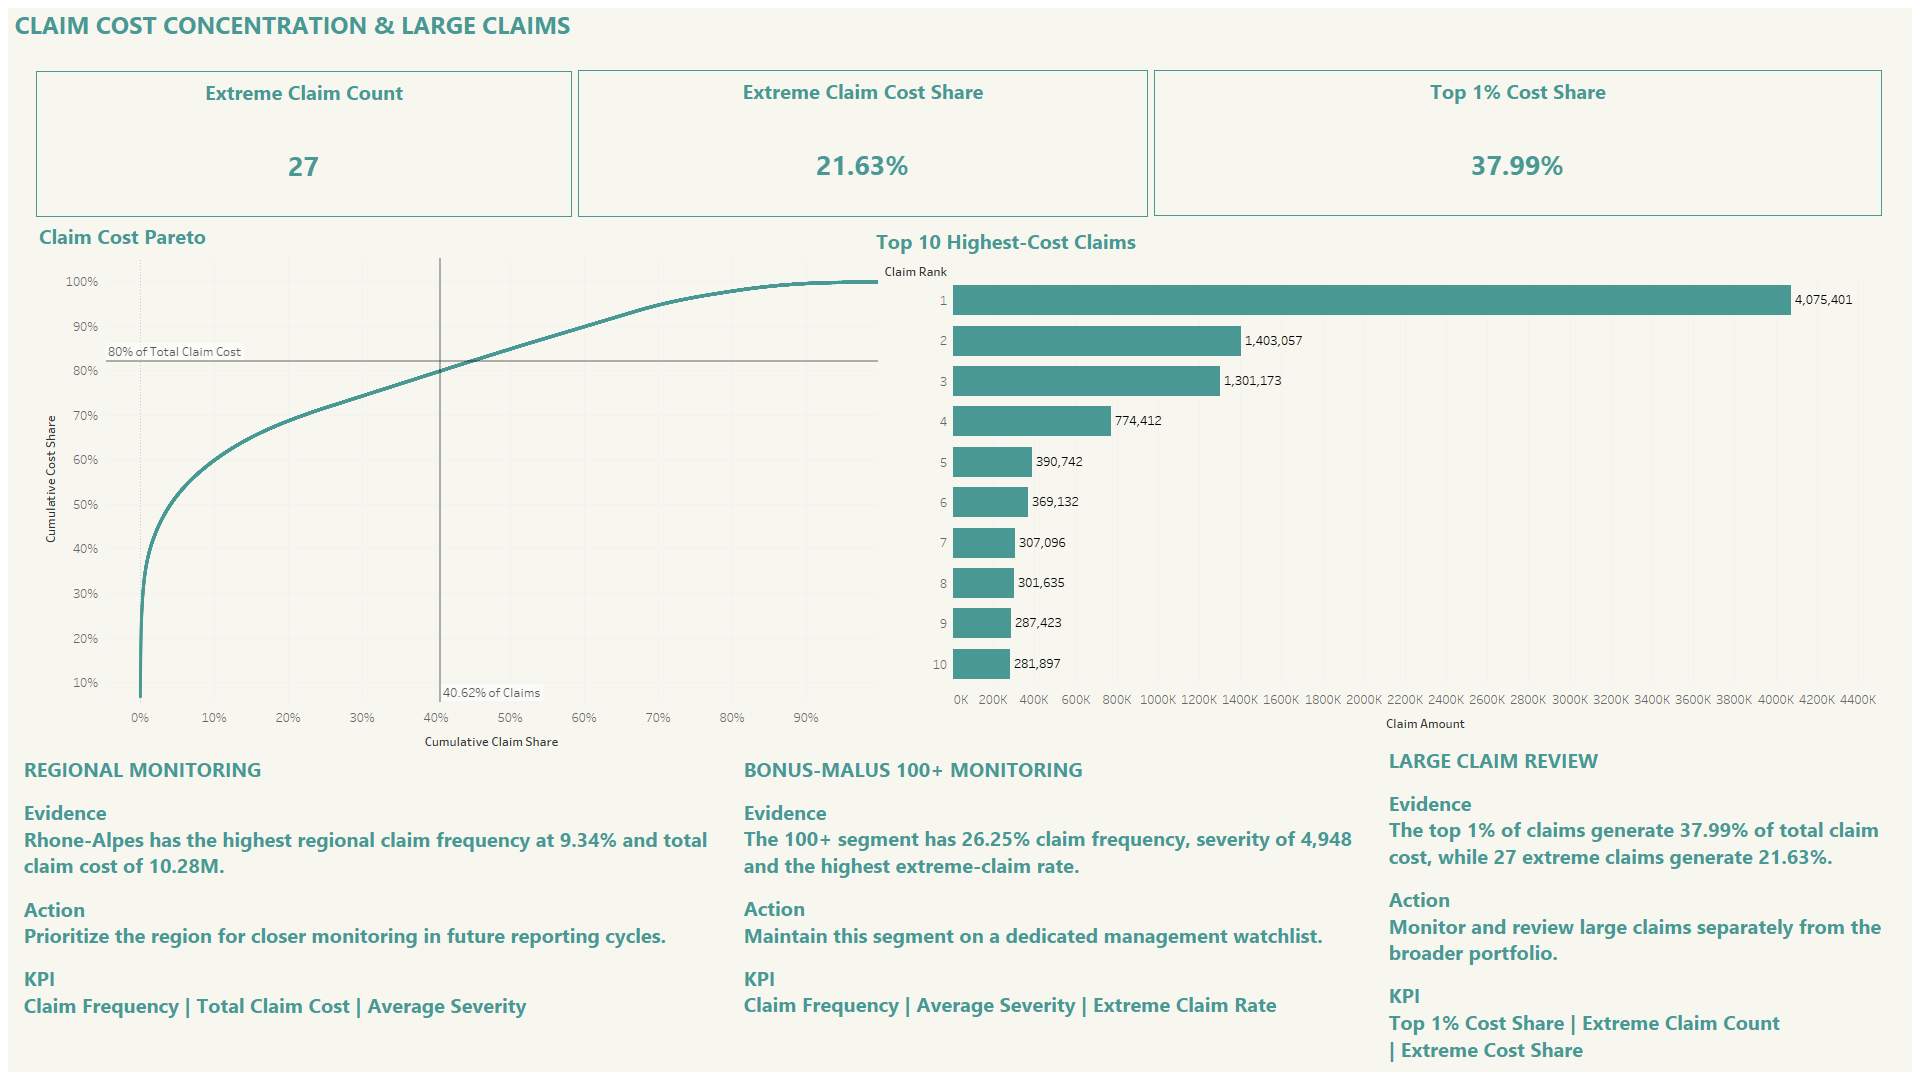

This screenshot's page, from the dashboard's own definition file:
{"tool":"tableau","page":{"name":"Claim Cost Concentration & Large Claims","canvas":[1920,1080],"ordinal":0},"visuals":[{"type":"title","box":[8,8,1904,32]},{"type":"worksheet","title":"Extreme Claim Cost Share","mark":"Automatic","box":[578,70,570,147]},{"type":"worksheet","title":"Top 1 Percent Cost Share","mark":"Automatic","box":[1154,70,728,146]},{"type":"worksheet","title":"Extreme Claim Count","mark":"Automatic","box":[36,71,536,146]},{"type":"worksheet","title":"Claim Cost Pareto","mark":"Line","rows":["cumulative_cost_share"],"cols":["cumulative_claim_share"],"box":[34.6,216,842.9,541.4]},{"type":"worksheet","title":"Top 10 Highest-Cost Claims","mark":"Bar","rows":["claim_rank"],"cols":["ClaimAmount"],"box":[871.7,221.4,1027.2,518.4]},{"type":"text","box":[21,734,699,310]},{"type":"text","box":[741,737,636,303]},{"type":"text","box":[1386,744,532,325]}]}

Visuals, with their boxes in screenshot pixels (x1, y1, x2, y2), scaled from the page's 1920x1080 canvas onto the 1920x1080 screenshot:
title: bbox=(8, 8, 1912, 40)
"Extreme Claim Cost Share" worksheet: bbox=(578, 70, 1148, 217)
"Top 1 Percent Cost Share" worksheet: bbox=(1154, 70, 1882, 216)
"Extreme Claim Count" worksheet: bbox=(36, 71, 572, 217)
"Claim Cost Pareto" worksheet (Line marks): bbox=(35, 216, 878, 757)
"Top 10 Highest-Cost Claims" worksheet (Bar marks): bbox=(872, 221, 1899, 740)
text: bbox=(21, 734, 720, 1044)
text: bbox=(741, 737, 1377, 1040)
text: bbox=(1386, 744, 1918, 1069)
